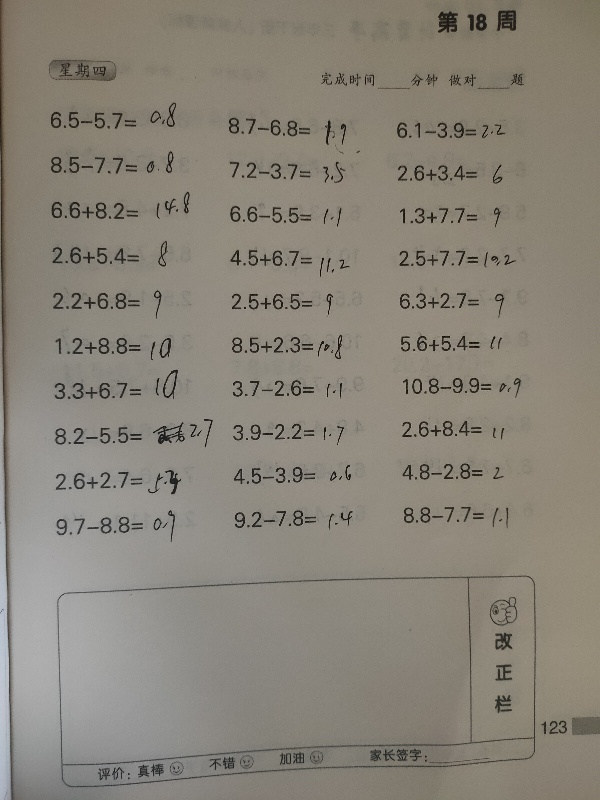equation: (37, 90, 194, 147), (386, 105, 543, 158), (46, 188, 200, 235), (50, 511, 200, 556), (217, 104, 360, 150), (44, 416, 221, 452), (395, 499, 550, 540), (48, 465, 194, 507), (221, 239, 362, 280), (393, 243, 543, 280), (394, 411, 523, 454), (223, 329, 358, 370), (42, 240, 180, 277), (229, 414, 363, 452), (383, 290, 523, 326), (219, 467, 355, 503), (226, 507, 360, 543), (41, 153, 190, 185), (212, 289, 341, 325), (51, 330, 189, 363), (392, 374, 533, 406), (223, 155, 351, 190), (46, 287, 175, 321), (49, 376, 187, 407), (375, 204, 515, 232), (393, 163, 532, 189), (221, 383, 354, 410), (397, 331, 514, 360), (218, 206, 354, 229), (398, 464, 520, 487)
